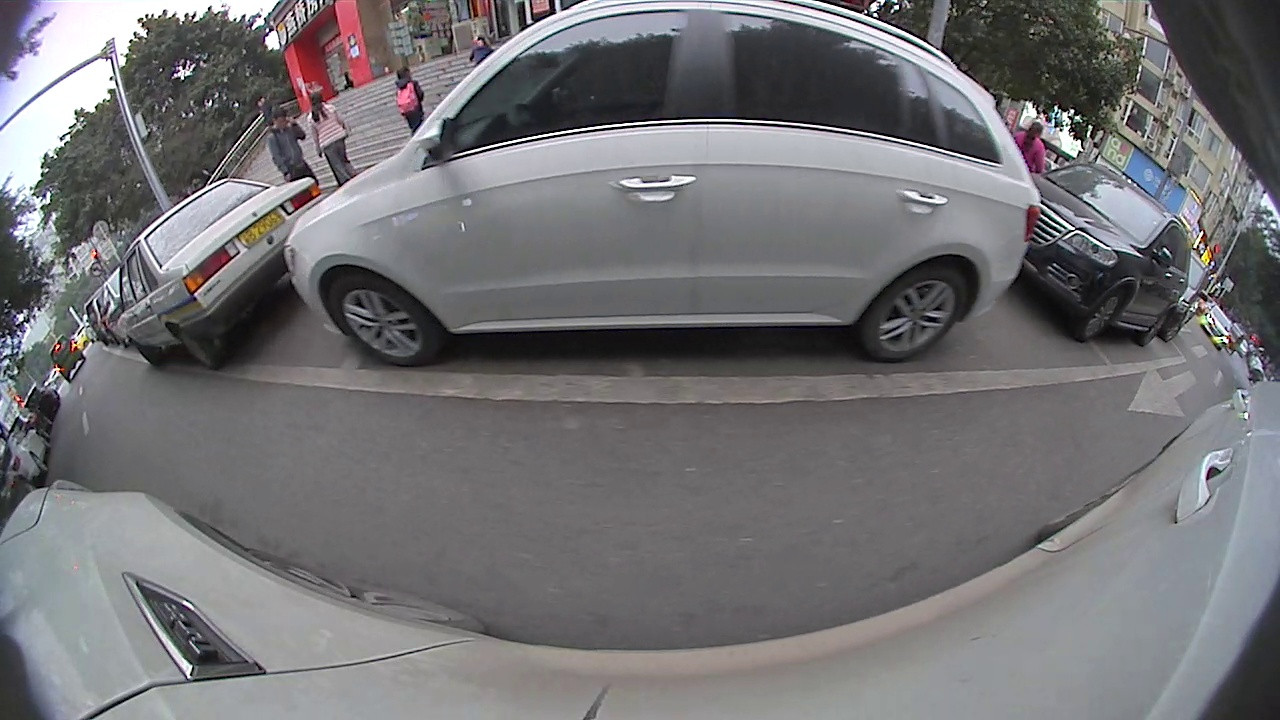car: (278, 2, 1041, 371), (115, 172, 330, 374), (1023, 158, 1195, 349)
front: (325, 276, 443, 366), (1081, 286, 1122, 342)
person: (301, 86, 355, 179), (261, 104, 312, 177), (387, 57, 426, 127), (1014, 113, 1048, 174)
rear: (859, 269, 975, 363), (171, 326, 224, 369)
